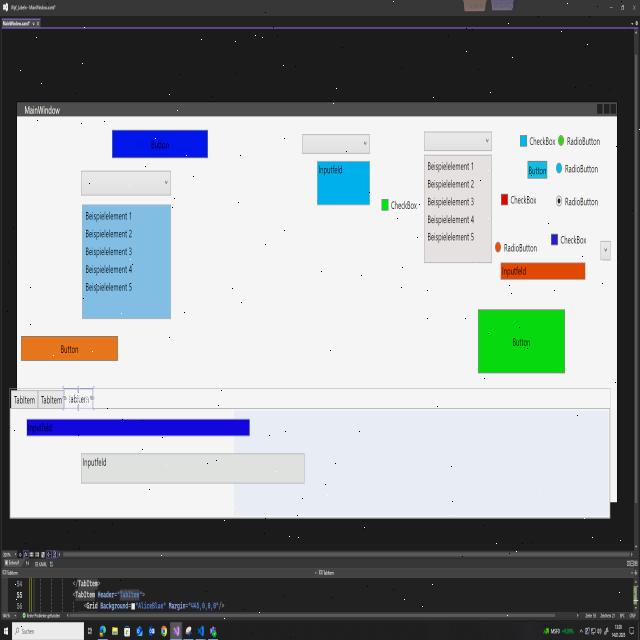button: (475, 303, 567, 377), (108, 124, 210, 162), (19, 331, 121, 367), (524, 156, 550, 185)
checkbox: (550, 232, 560, 248), (519, 134, 528, 147), (381, 198, 389, 212), (501, 193, 508, 206)
dropdownMenu: (80, 169, 172, 321), (423, 130, 493, 265), (301, 132, 371, 154), (599, 238, 611, 263)
input: (80, 450, 305, 485), (26, 416, 252, 438), (316, 158, 371, 208), (500, 259, 586, 283)
label: (565, 195, 599, 208), (503, 242, 538, 254), (564, 163, 598, 175), (567, 136, 600, 146), (391, 199, 417, 211), (510, 194, 537, 205), (530, 136, 556, 147), (560, 235, 587, 245)
menuItem: (85, 262, 133, 276), (427, 177, 475, 191), (426, 212, 475, 225), (426, 195, 475, 208), (85, 245, 133, 258), (427, 231, 475, 244), (427, 160, 475, 173), (84, 281, 132, 293), (85, 228, 133, 240), (85, 210, 133, 222)
radio: (555, 161, 563, 175), (557, 134, 565, 147), (494, 240, 502, 253), (556, 194, 562, 208)
tabControl: (62, 386, 94, 412), (8, 386, 40, 410), (37, 387, 65, 411)
